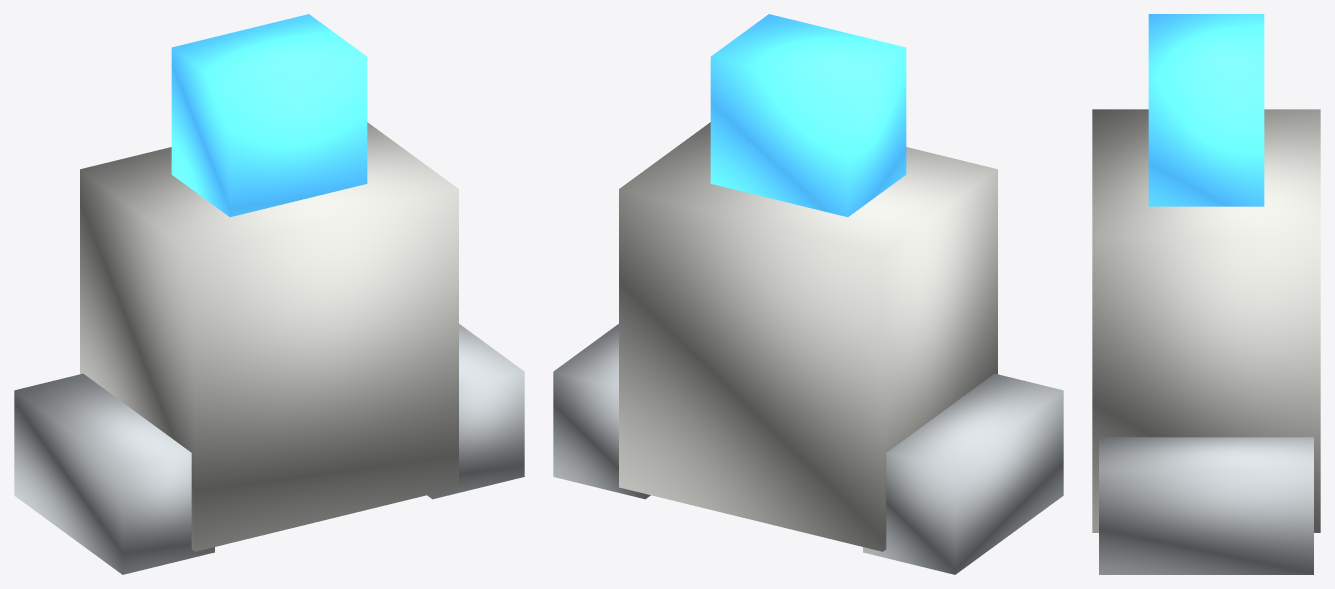
File: 23_L94_LED2_StatusBlue.glb
3 views of the same model, side by side, from view 1: azimuth 30°, elevation 25°; view 2: azimuth 150°, elevation 25°; view 3: azimuth 270°, elevation 25° (orthographic).
Parts seen in each view (by area): view 1: L94_StatusBlue_Part_0000, L94_StatusBlue_Part_0002, L94_StatusBlue_Part_0001; view 2: L94_StatusBlue_Part_0000, L94_StatusBlue_Part_0002, L94_StatusBlue_Part_0001; view 3: L94_StatusBlue_Part_0000, L94_StatusBlue_Part_0002, L94_StatusBlue_Part_0001.
Boxes of the visible parts, x1,y1,x2,y2 form: L94_StatusBlue_Part_0000: (80, 122, 458, 551); L94_StatusBlue_Part_0002: (14, 324, 524, 574); L94_StatusBlue_Part_0001: (171, 14, 367, 217); L94_StatusBlue_Part_0000: (619, 122, 997, 551); L94_StatusBlue_Part_0002: (553, 324, 1063, 574); L94_StatusBlue_Part_0001: (710, 14, 906, 217); L94_StatusBlue_Part_0000: (1092, 109, 1320, 532); L94_StatusBlue_Part_0002: (1099, 437, 1313, 574); L94_StatusBlue_Part_0001: (1148, 14, 1264, 206).
Size of the model in its own units: 0.048 by 0.0495 by 0.0238.
